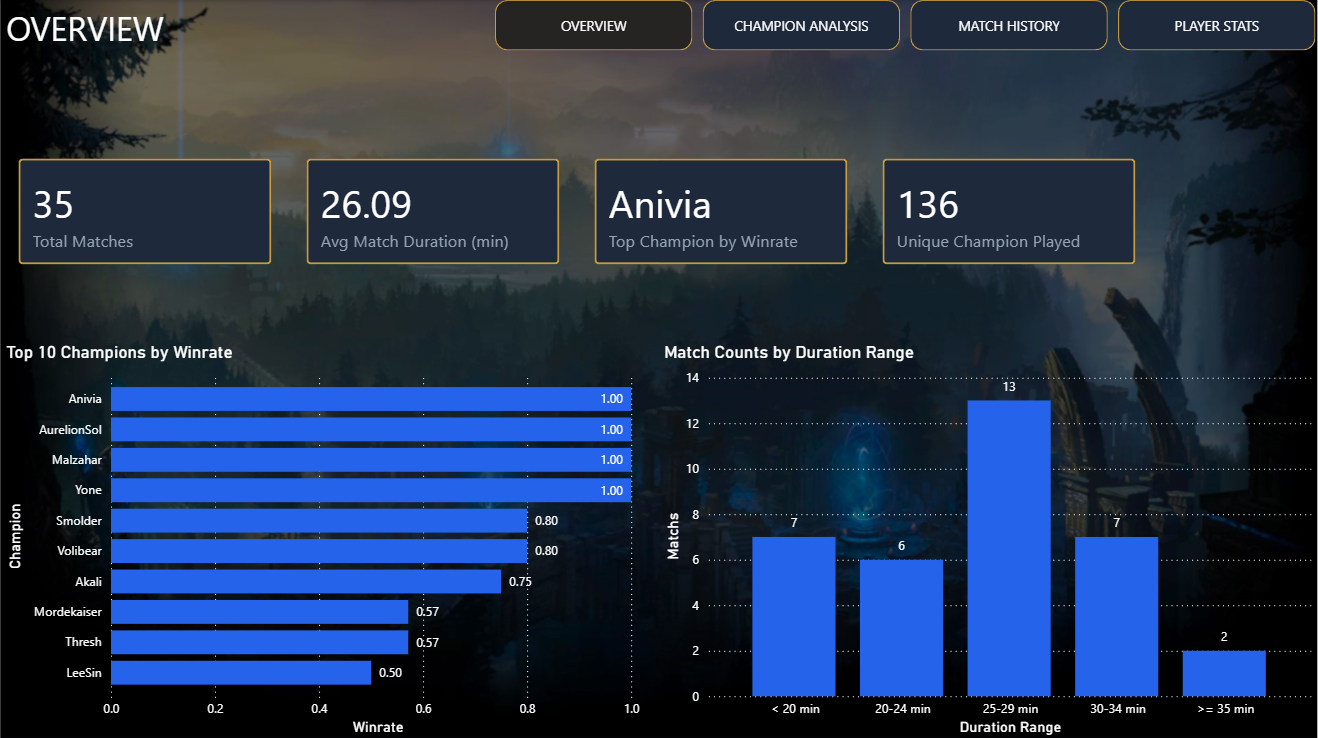

What the dashboard file says about the page in this screenshot:
{"tool":"powerbi","page":{"name":"OVERVIEW","canvas":[1280,720],"ordinal":0},"visuals":[{"type":"cardVisual","fields":{"Data":["champion_stats.Total Matches"]},"box":[0,137.1,280.1,137.1],"z":0},{"type":"cardVisual","fields":{"Data":["champion_stats.Avg Match Duration"]},"box":[280.1,137.1,280.1,137.1],"z":1000},{"type":"cardVisual","fields":{"Data":["champion_stats.Top Champion by Winrate"]},"box":[560.2,137.1,280.1,137.1],"z":2000},{"type":"cardVisual","fields":{"Data":["champion_stats.Total Unique Champions"]},"box":[840.4,137.1,280.1,137.1],"z":3000},{"type":"clusteredBarChart","title":"Top 10 Champions by Winrate","fields":{"Category":["champion_stats.champion_name"],"Y":["champion_stats.Champion Winrate"]},"box":[0,332.4,640,387.6],"z":4000},{"type":"columnChart","title":"Match Counts by Duration Range","fields":{"Y":["CountNonNull(match_summary.match_id)"],"Category":["match_summary.duration_range"]},"box":[640,332.4,640,387.6],"z":5000},{"type":"textbox","box":[0,0,188.4,107.6],"z":6000},{"type":"pageNavigator","box":[480,0,800,49.8],"z":7000}]}

Visuals, with their boxes in screenshot pixels (x1, y1, x2, y2), scaled from the page's 1280x720 canvas onto the 1318x738 screenshot:
cardVisual - champion_stats.Total Matches: 0, 141, 288, 281
cardVisual - champion_stats.Avg Match Duration: 288, 141, 577, 281
cardVisual - champion_stats.Top Champion by Winrate: 577, 141, 865, 281
cardVisual - champion_stats.Total Unique Champions: 865, 141, 1154, 281
"Top 10 Champions by Winrate" clusteredBarChart: 0, 341, 659, 737
"Match Counts by Duration Range" columnChart: 659, 341, 1317, 737
textbox: 0, 0, 194, 110
pageNavigator: 494, 0, 1317, 51
